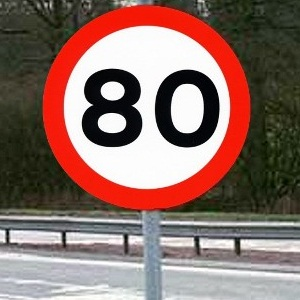Speed_limit_80km: (42, 5, 251, 209)
